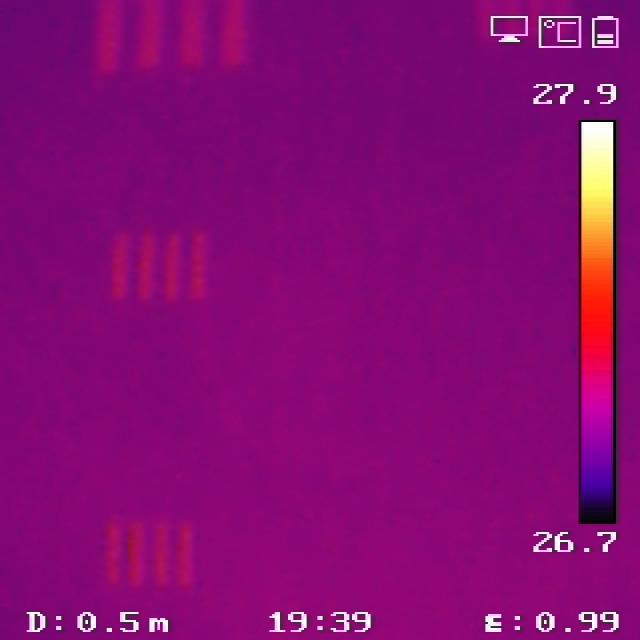Distinguishable 4-bar target: (88, 2, 251, 69), (104, 224, 211, 299), (105, 521, 200, 590)
